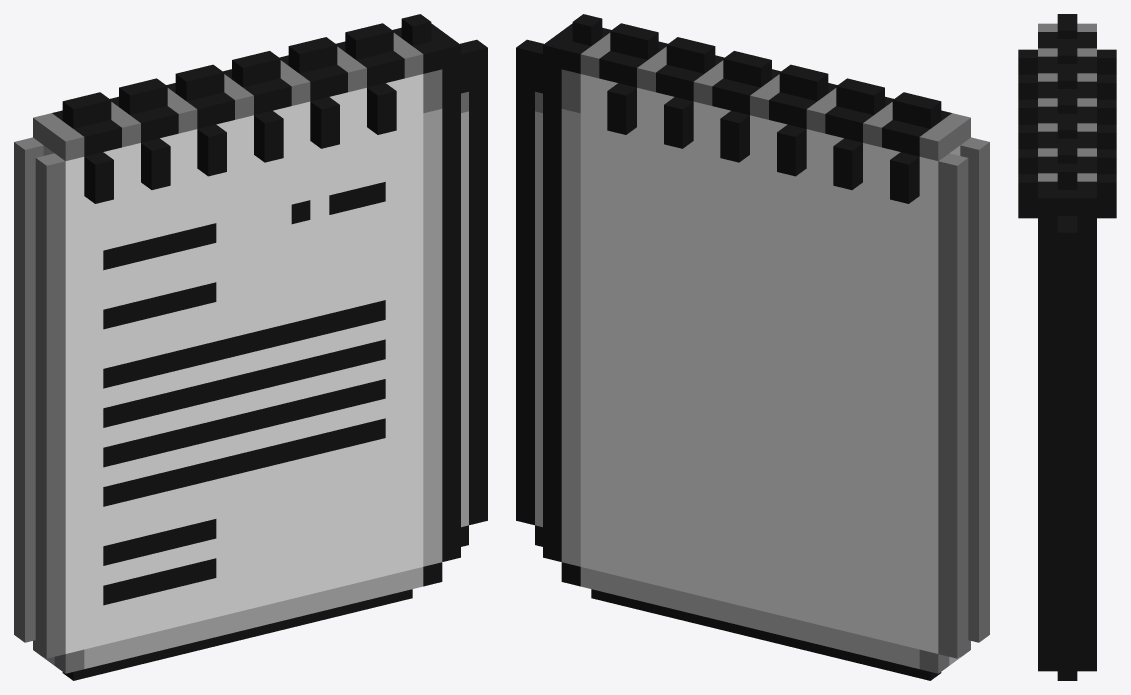
Rendered from notepad.glb.
3 renders of one model, left to right at view 1: azimuth 30°, elevation 25°; view 2: azimuth 150°, elevation 25°; view 3: azimuth 270°, elevation 25°, orthographic. The views are drawn at different scales.
Visible parts, largest first — view 1: Untitled.009; view 2: Untitled.009; view 3: Untitled.009.
Boxes of the visible parts, box(x1,y1,x2,y2) form: Untitled.009: box(14, 14, 487, 680); Untitled.009: box(516, 14, 989, 680); Untitled.009: box(1018, 14, 1116, 680).
Bounding box in the file's own units: 2.4 × 2.9 × 0.5.
1 material, 1 textured.
